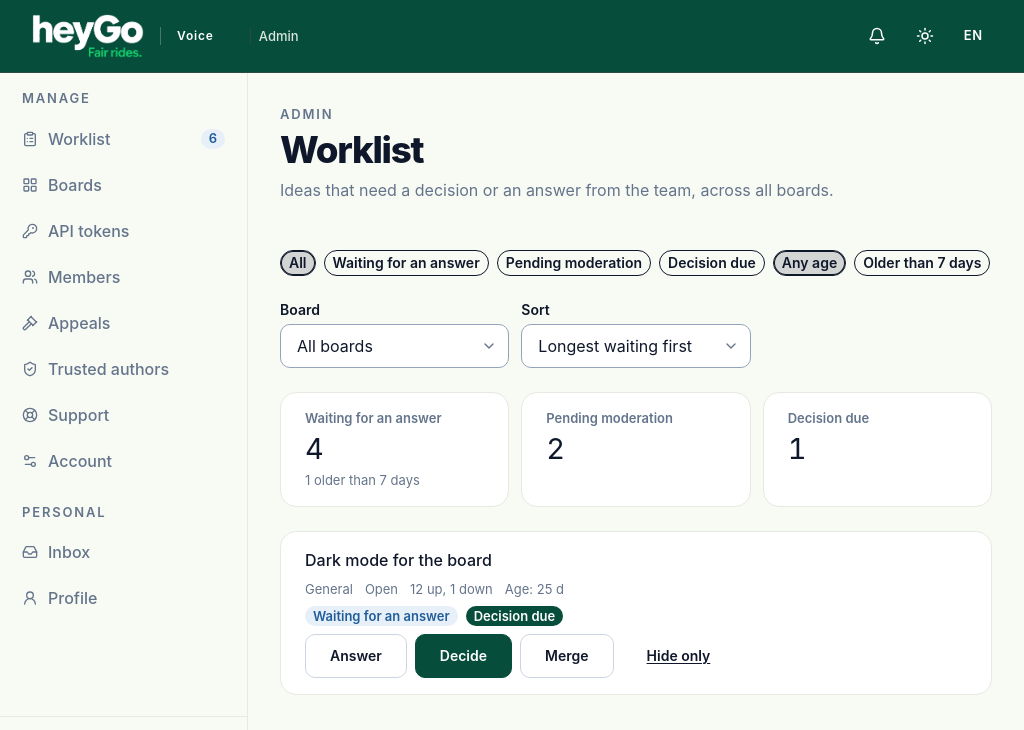
WorklistPage — Entscheiden (decision with a mandatory explanation) › saves the status with its explanation through the status endpoint and removes the row
Step 1. Click the button with test id "worklist-row-11-decide" → coordinates (463, 656), box [415,634,512,678]
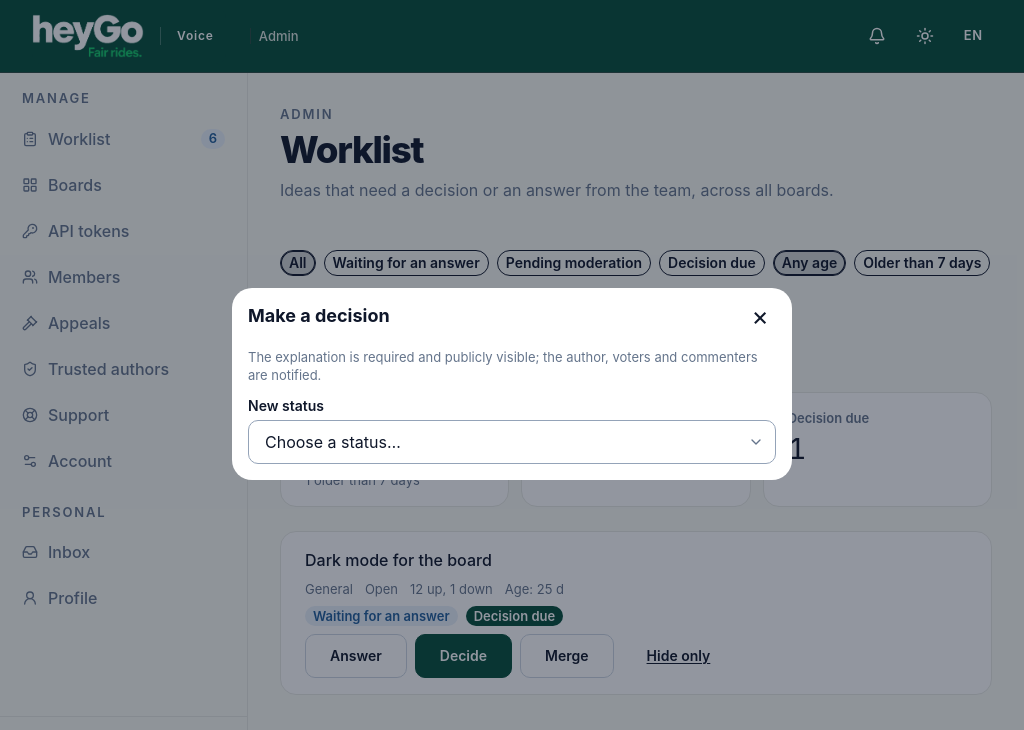
Step 2. Select "Done" in the dropdown with test id "worklist-decide-status" → coordinates (512, 442), box [248,420,776,464]
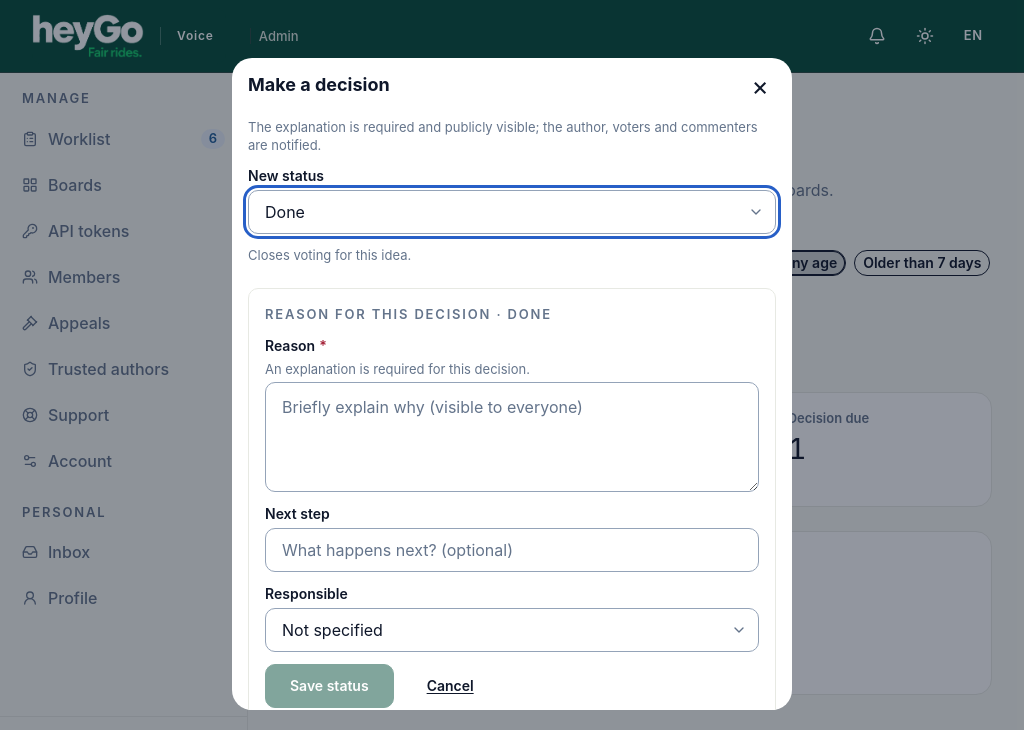
Step 3. Type "Shipped in the next release" into the text box with test id "worklist-decide-reason" → coordinates (512, 437), box [265,382,759,492]
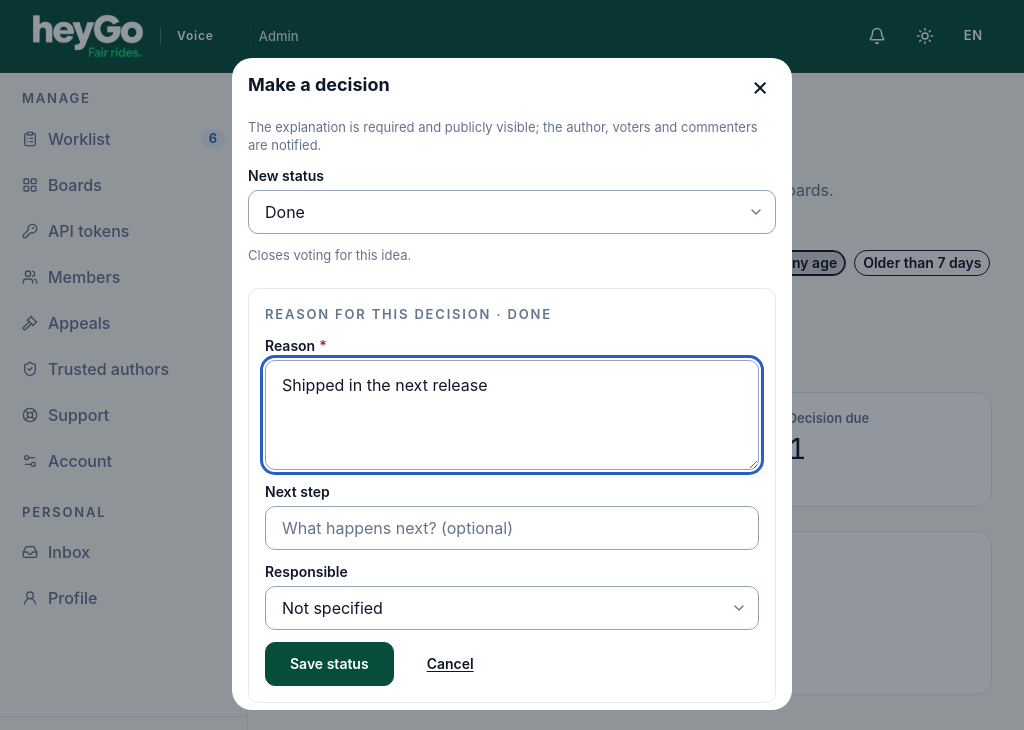
Step 4. Click the button with test id "worklist-decide-save" → coordinates (329, 664), box [265,642,394,686]
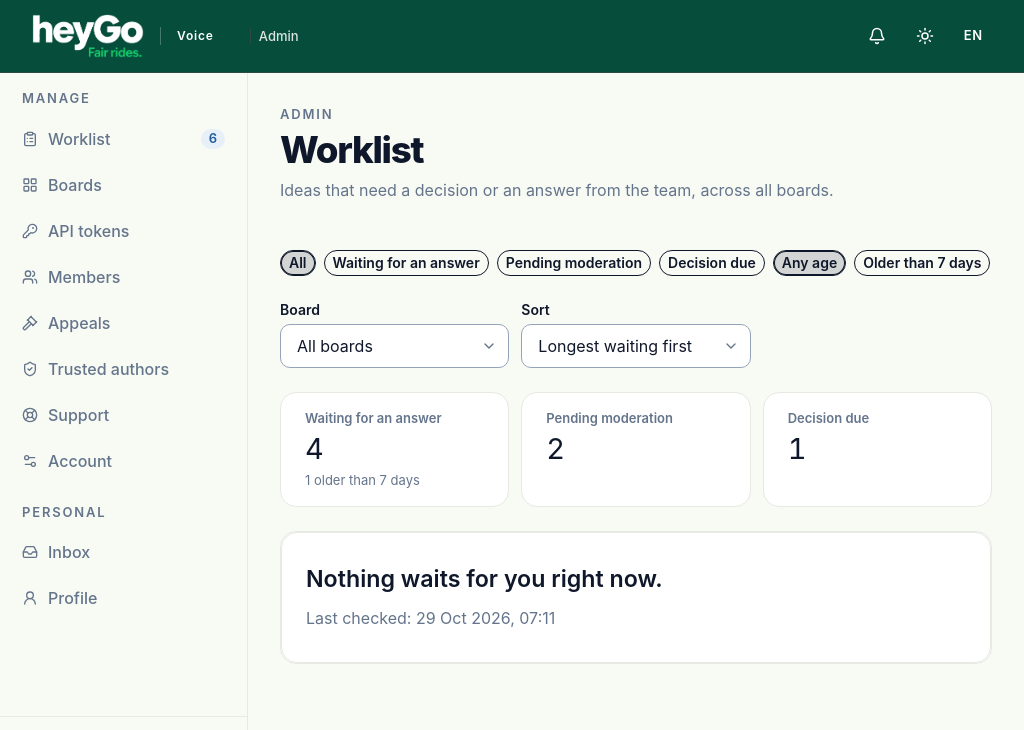
Expected: the list item with test id "worklist-row-11" is gone
